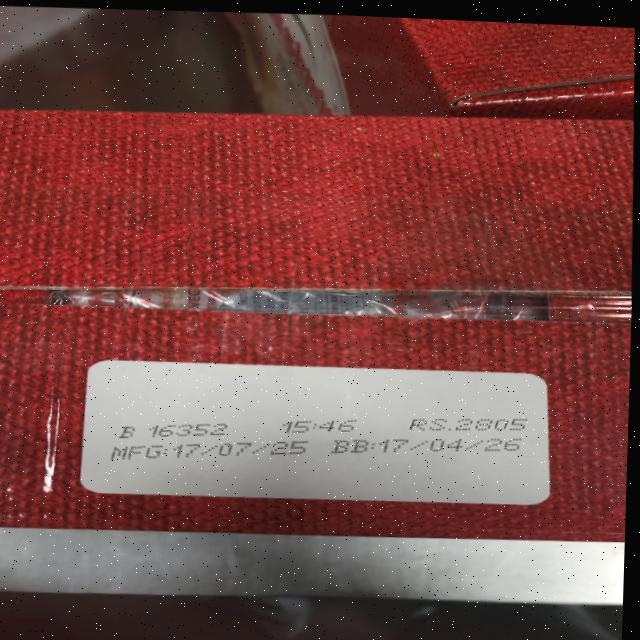BB: (330, 430, 526, 460)
Batch: (120, 420, 233, 443)
MFG: (112, 434, 302, 466)
RS: (406, 413, 530, 435)
TimeStamp: (281, 417, 359, 435)
